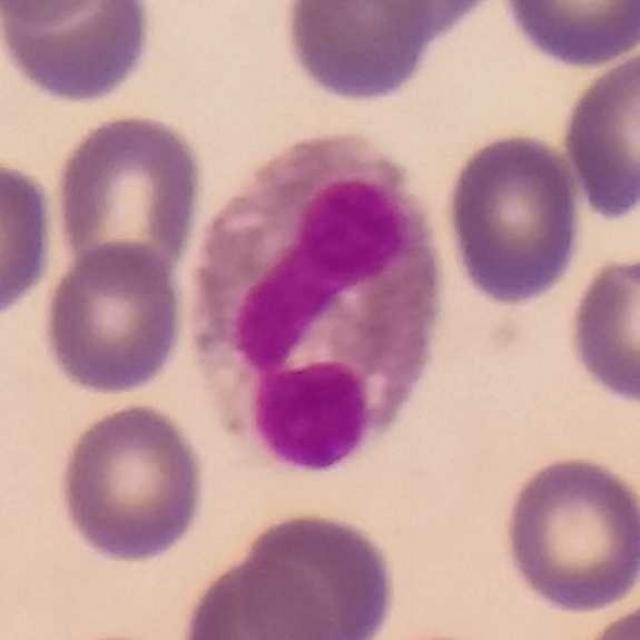Eosinophil: (192, 131, 448, 473)
RBC: (51, 108, 207, 286), (440, 127, 588, 309), (52, 398, 210, 568), (37, 237, 189, 399), (496, 449, 640, 616), (232, 506, 400, 640), (277, 0, 441, 107), (0, 0, 163, 107), (557, 42, 640, 224), (174, 552, 340, 640), (562, 249, 640, 410), (0, 152, 59, 328), (496, 0, 640, 70), (328, 0, 506, 40), (0, 0, 126, 29), (574, 593, 640, 640)
